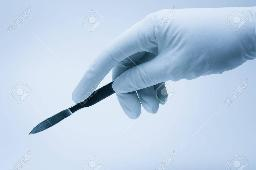scalpel: (28, 80, 118, 134)
